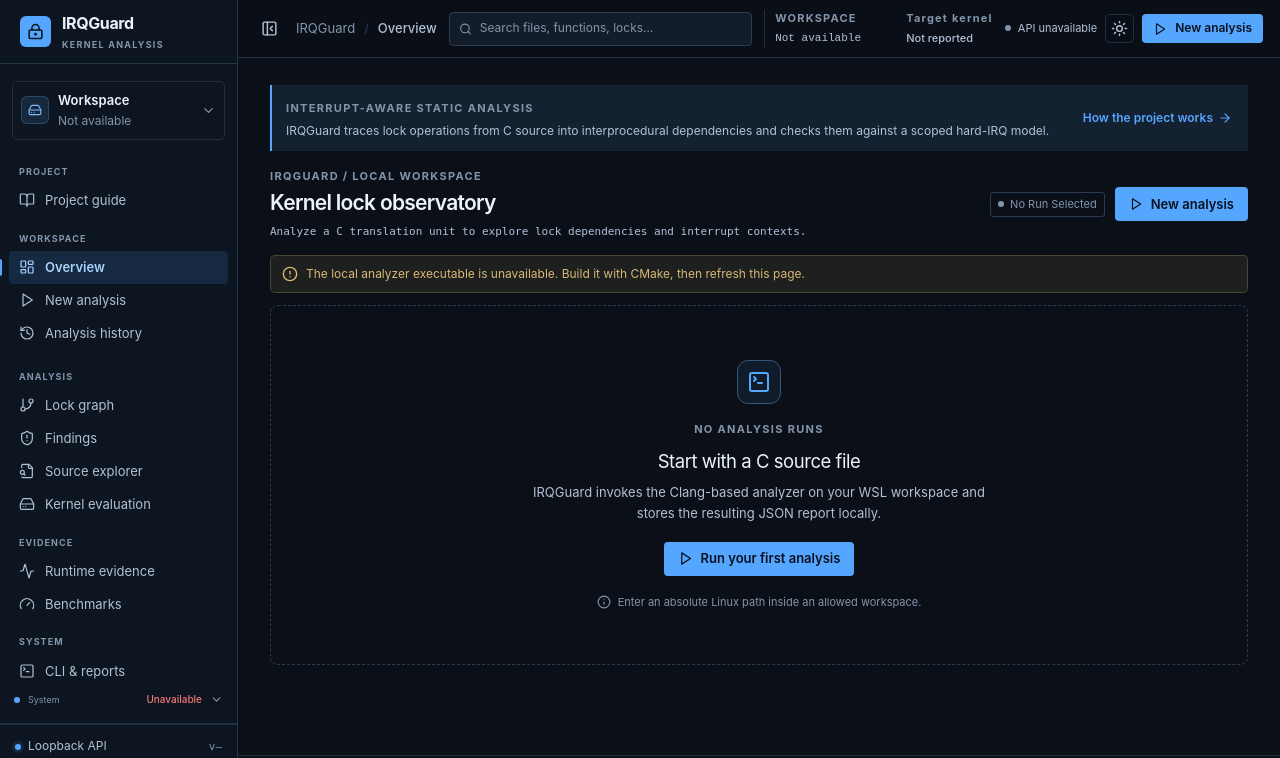
Test: IRQGuard workspace states › shows current irqsave extraction status in the CLI guide caveat
What coordinates should you click on to do the following:
click the button "CLI & reports"
I would click on:
 (118, 671)
Its box is x1=9 y1=654 x2=228 y2=687.
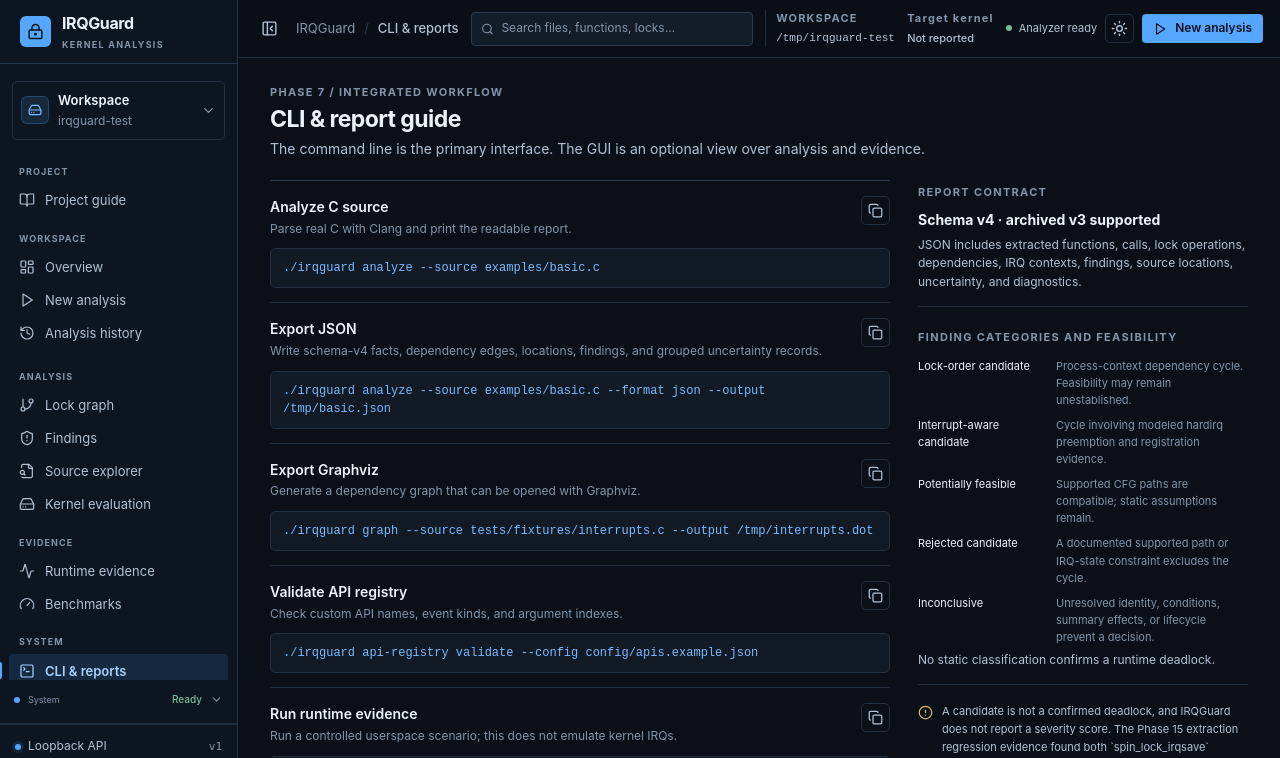
Check: the text "Schema v4 · archived v3 supported" is shown, box x1=918 y1=211 x2=1160 y2=228
